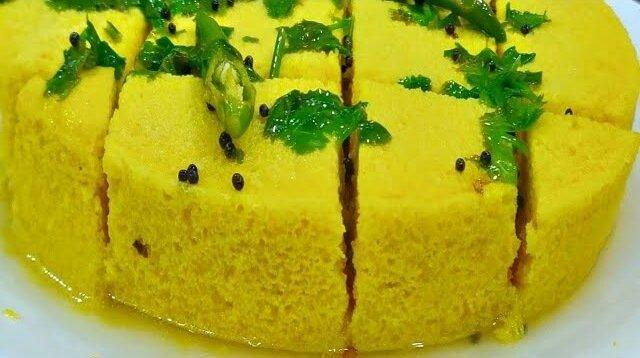dhokla: (0, 4, 633, 358)
